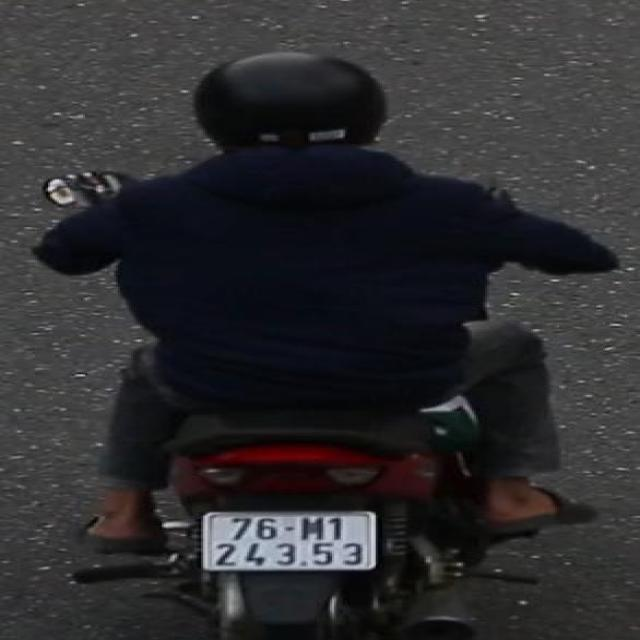LP: (198, 505, 388, 578)
helmet: (178, 50, 401, 166)
